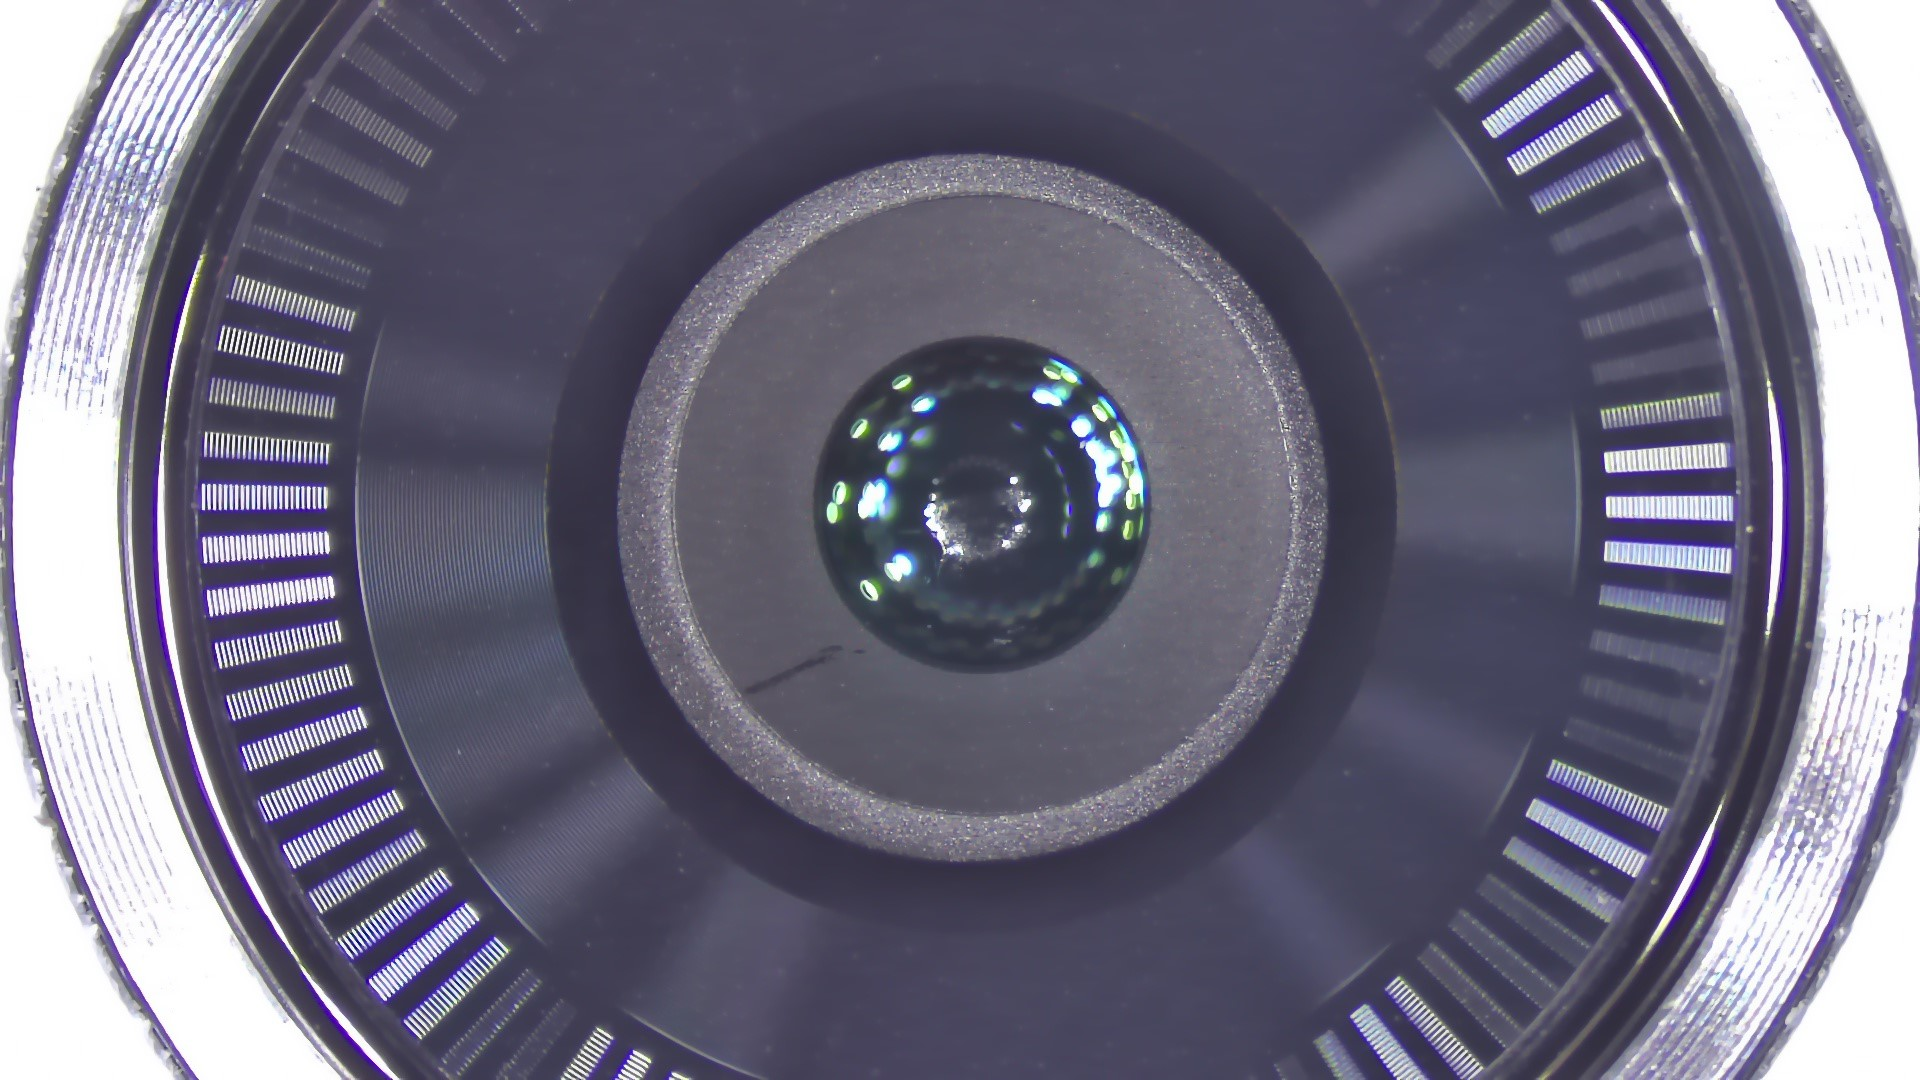crack: (696, 622, 903, 736)
